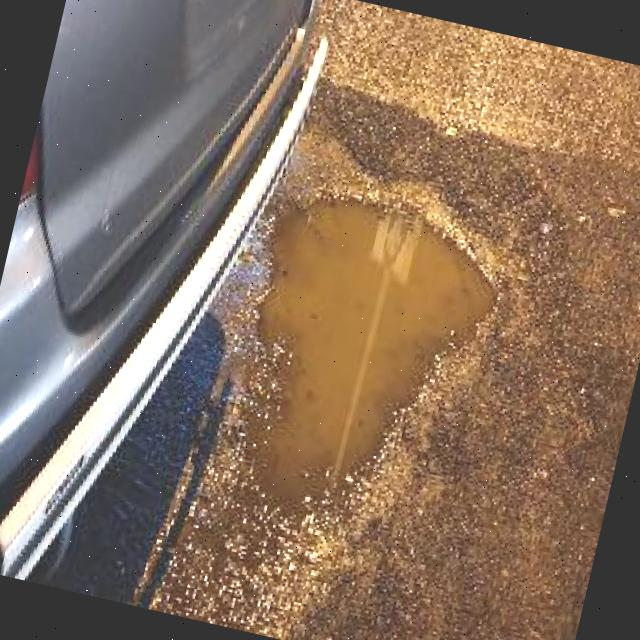stagnation: (226, 151, 517, 540)
